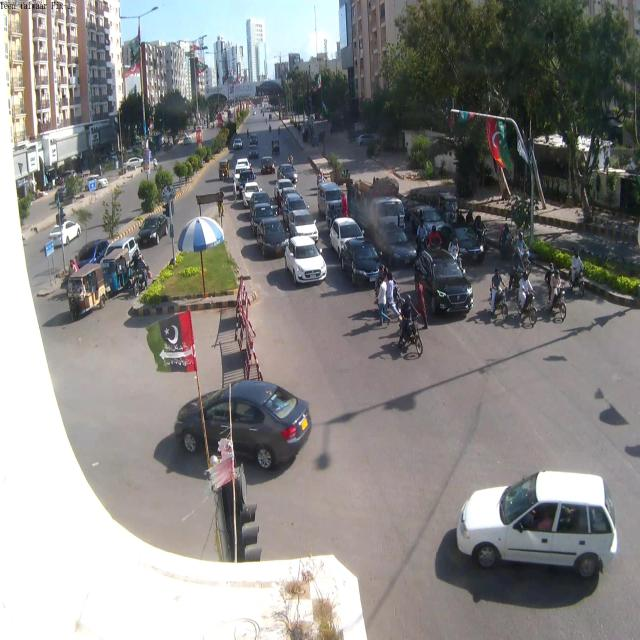car: (456, 473, 620, 577), (170, 380, 312, 479), (414, 250, 476, 319), (282, 235, 328, 282), (343, 239, 384, 287), (376, 224, 416, 270), (406, 200, 443, 245), (449, 224, 486, 268), (330, 217, 364, 258), (104, 236, 144, 268), (258, 217, 289, 258), (320, 179, 344, 228), (46, 219, 81, 246), (139, 215, 167, 246), (292, 213, 320, 244), (281, 190, 311, 216), (247, 191, 273, 209), (277, 162, 297, 184), (252, 202, 275, 221), (239, 179, 258, 198), (276, 180, 295, 196), (234, 158, 252, 174), (247, 136, 259, 156), (262, 158, 275, 174), (126, 158, 143, 169), (232, 138, 244, 148), (272, 139, 278, 152)
motorbike: (400, 290, 422, 358), (395, 319, 424, 360), (546, 258, 565, 320), (518, 270, 538, 326), (490, 268, 510, 322), (133, 247, 153, 298), (377, 264, 399, 310), (514, 229, 533, 272), (498, 222, 516, 264), (570, 250, 584, 298), (316, 167, 326, 188)
truck: (351, 178, 406, 242)
